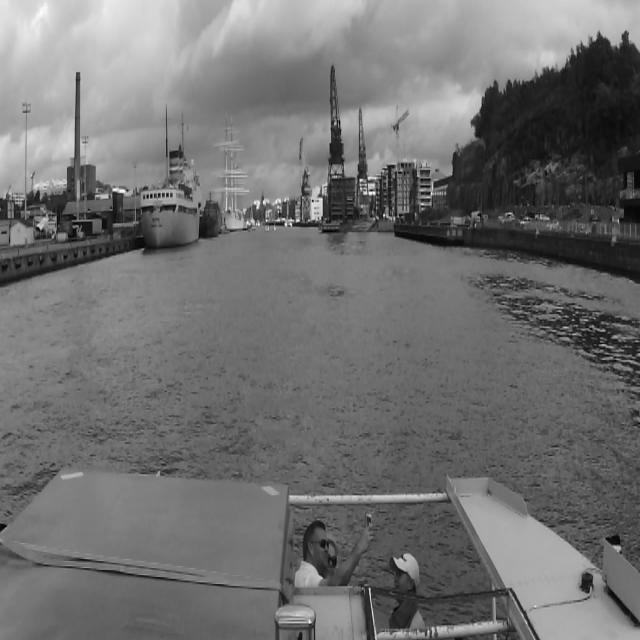ship: (141, 102, 202, 252), (223, 112, 243, 232), (202, 191, 220, 237), (264, 225, 270, 231), (273, 226, 276, 231)
